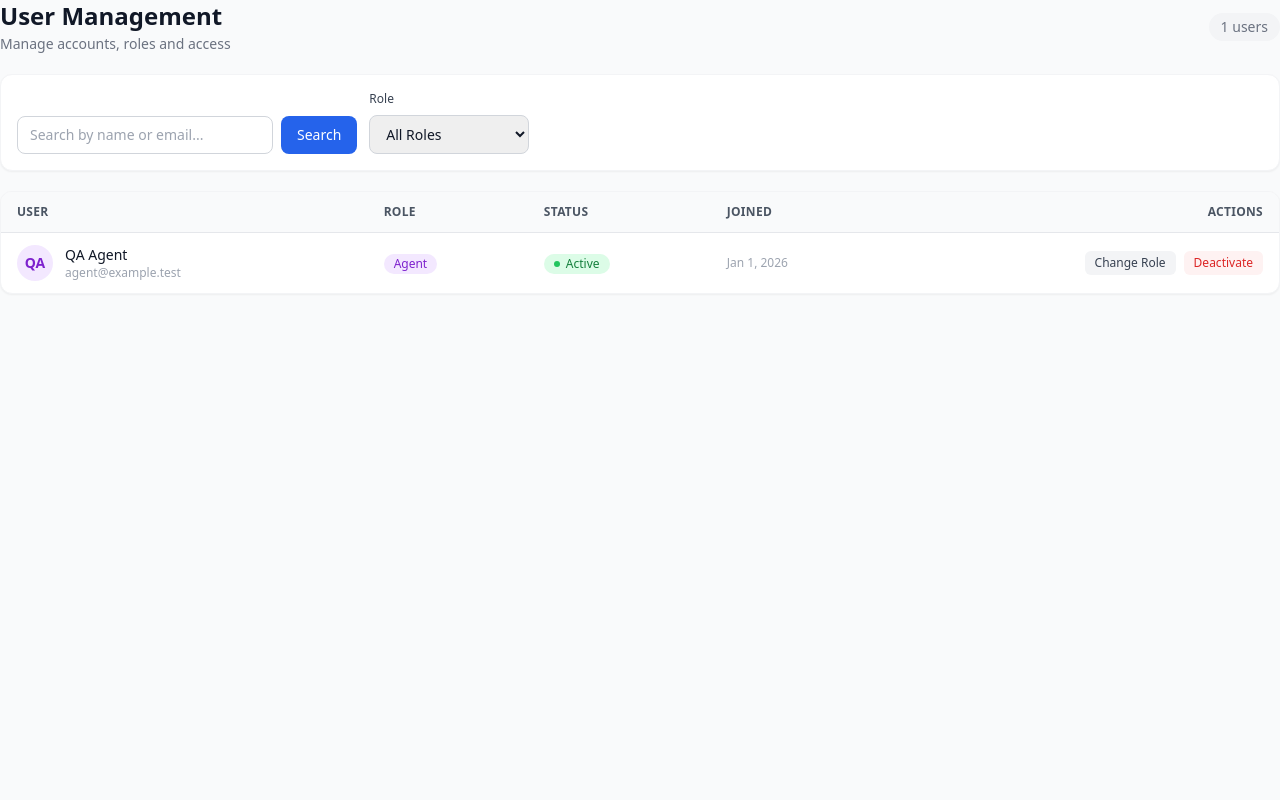
Test case: admin list pages › filters the user list by search text and opens a role-change dialog
Expected: the text "QA Agent" is shown, [65, 245, 127, 264]
Type "agent@example.test" into the search field with placeholder "Search by name or email...".
click(145, 135); type("agent@example.test")  # box [17, 116, 273, 154]
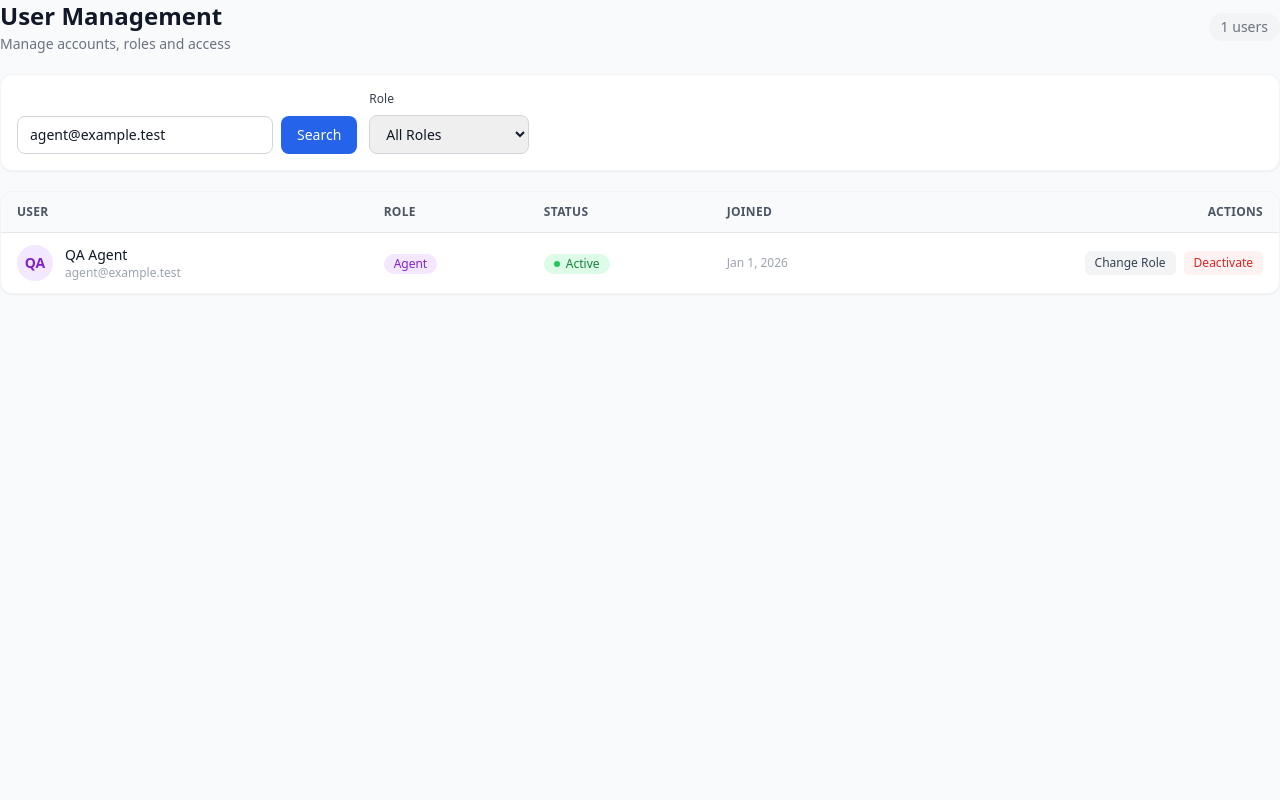
Click the button "Search".
click(319, 135)  # box [281, 116, 357, 154]
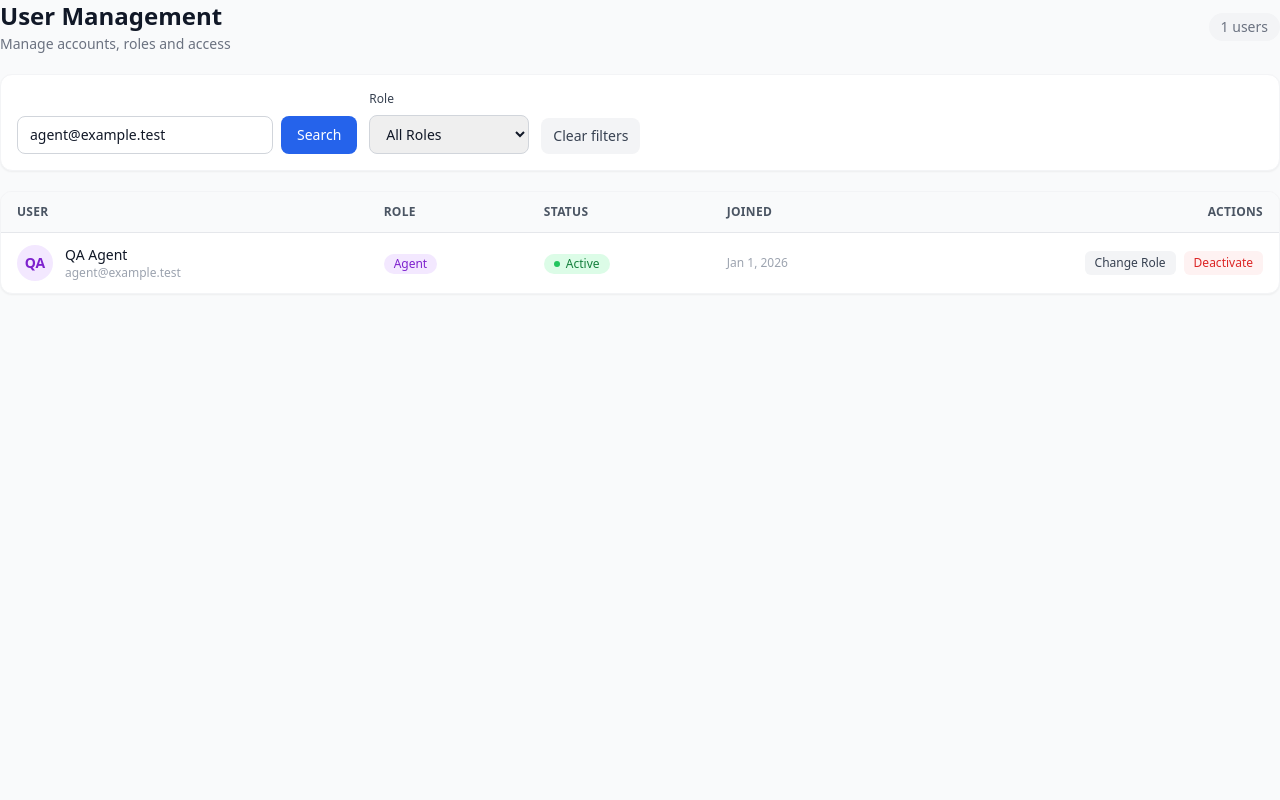
Click the button "Change Role".
click(1130, 263)  # box [1085, 251, 1176, 275]
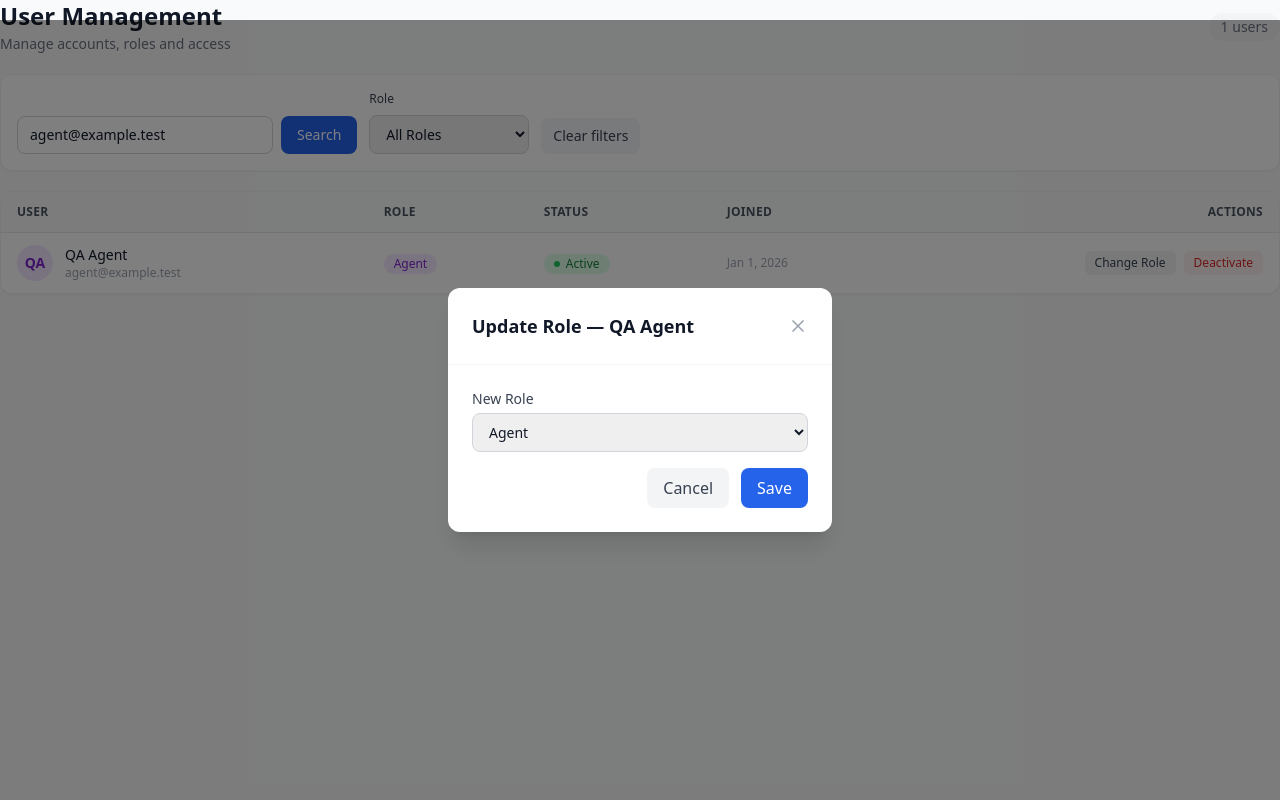
Expected: the heading "Update Role — QA Agent" is shown, [472, 312, 694, 340]
